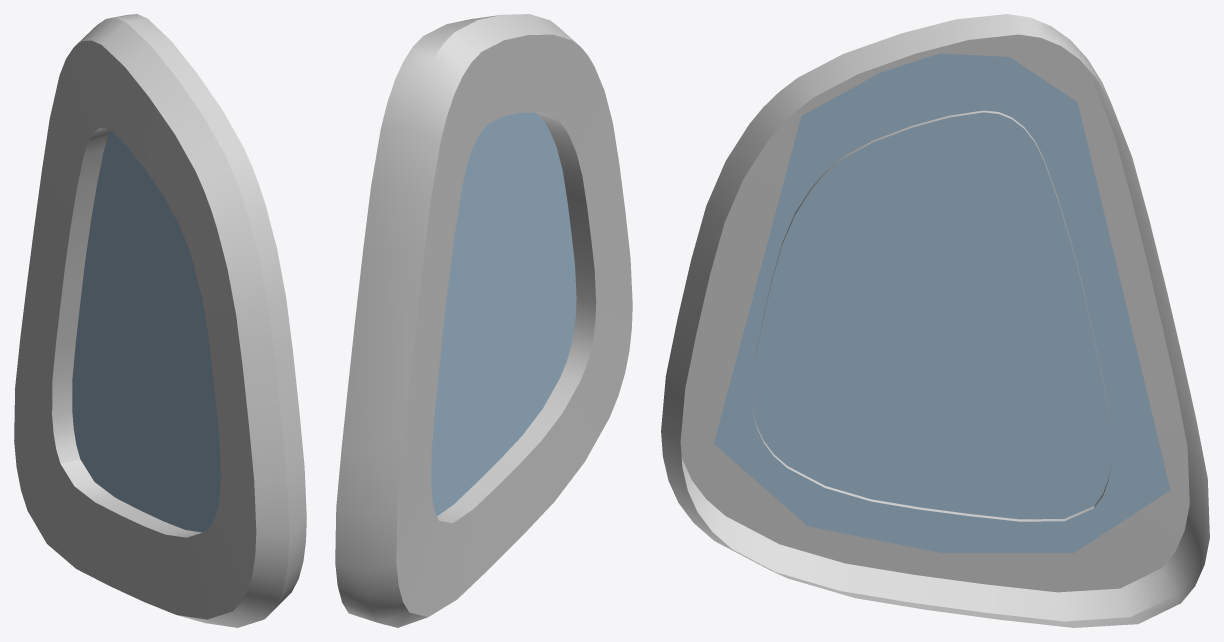
File: Mirror.fbx
The picture shows the model from 3 angles, left to right: view 1: azimuth 30°, elevation 25°; view 2: azimuth 150°, elevation 25°; view 3: azimuth 270°, elevation 25°; orthographic projection. The views are drawn at different scales.
Visible parts, largest first — view 1: Mirror; view 2: Mirror; view 3: Mirror.
Boxes of the visible parts, <box> form: Mirror: <box>14,14,306,627</box>; Mirror: <box>335,14,632,627</box>; Mirror: <box>661,14,1209,627</box>.
Bounding box in the file's own units: 7.37 × 75.87 × 62.13.
